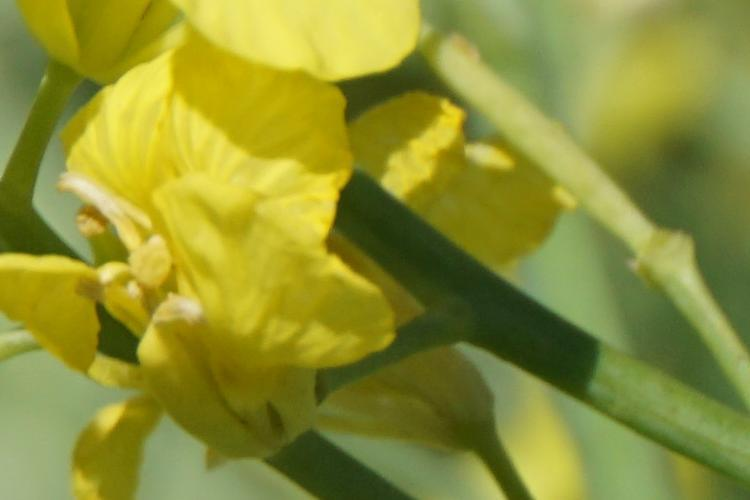yellow: (23, 79, 379, 449), (331, 102, 550, 437), (53, 8, 430, 86)
